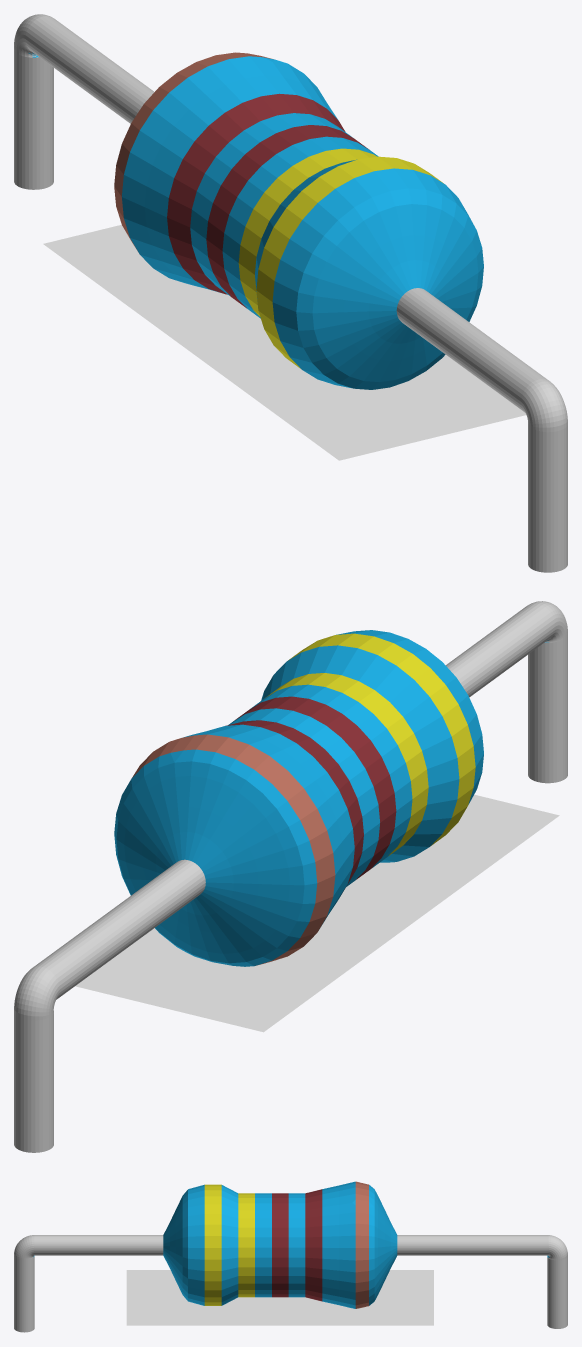
File: R3_blue_2.gltf
3 renders of one model, top to bottom at view 1: azimuth 30°, elevation 25°; view 2: azimuth 150°, elevation 25°; view 3: azimuth 270°, elevation 25°, orthographic. The views are drawn at different scales.
Parts seen in each view (by area): view 1: R3_blue_2, R3_blue_2_plane; view 2: R3_blue_2, R3_blue_2_plane; view 3: R3_blue_2, R3_blue_2_plane.
Part boxes in pixels (<box>): R3_blue_2: <box>14,14,567,572</box>; R3_blue_2_plane: <box>43,224,526,460</box>; R3_blue_2: <box>14,601,567,1152</box>; R3_blue_2_plane: <box>75,794,559,1032</box>; R3_blue_2: <box>14,1181,567,1332</box>; R3_blue_2_plane: <box>126,1270,433,1325</box>.
Bounding box in the file's own units: 0.0161 × 0.0189 × 0.0676.
